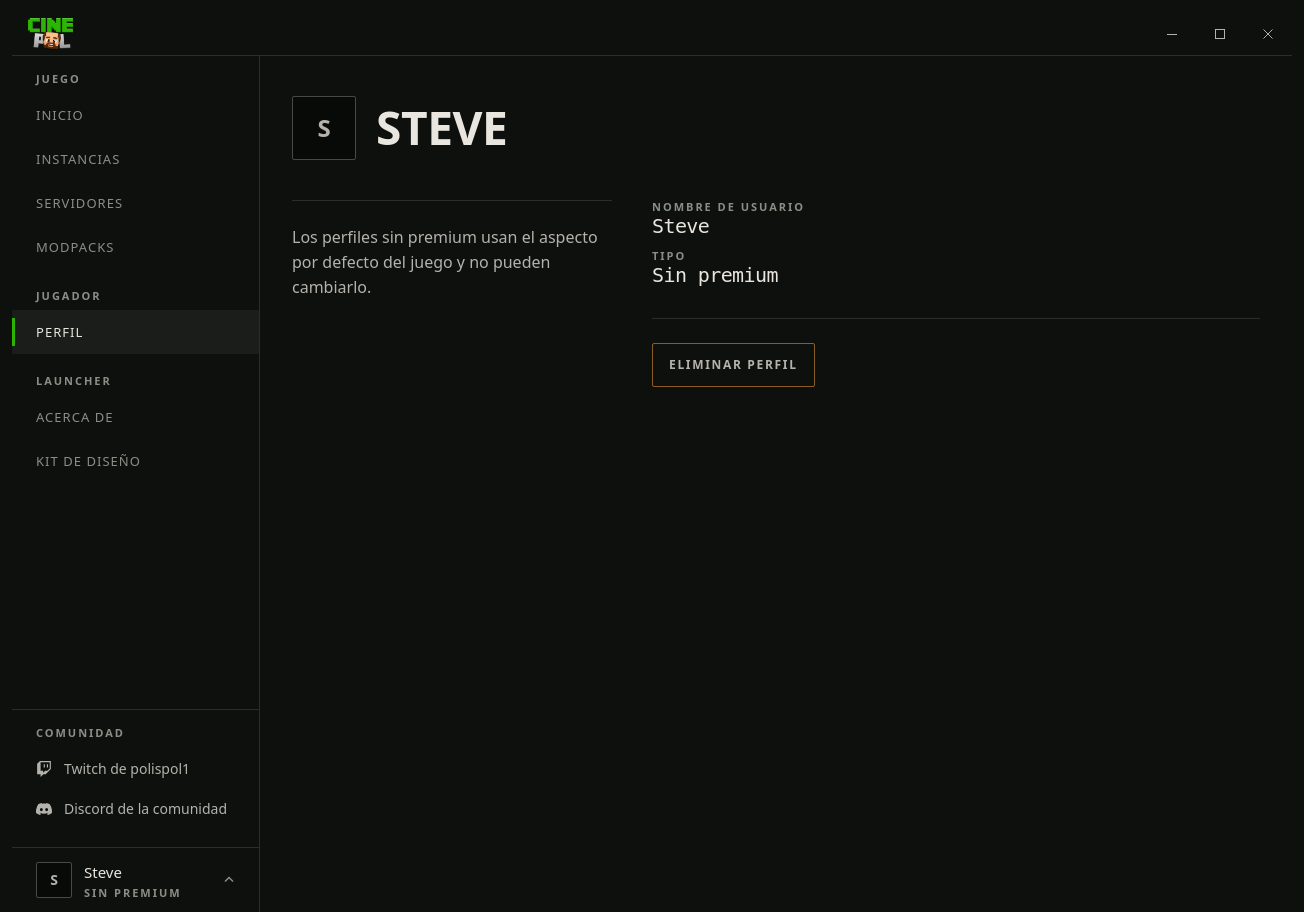
profile switcher › shows the active profile and switches between online and offline groups
This screenshot has width=1304, height=912.
What coordinates should you click on to do the following:
click the button with aria-label "Cambiar de perfil"
I would click on:
 (136, 880)
Its box is [12,848,259,911].
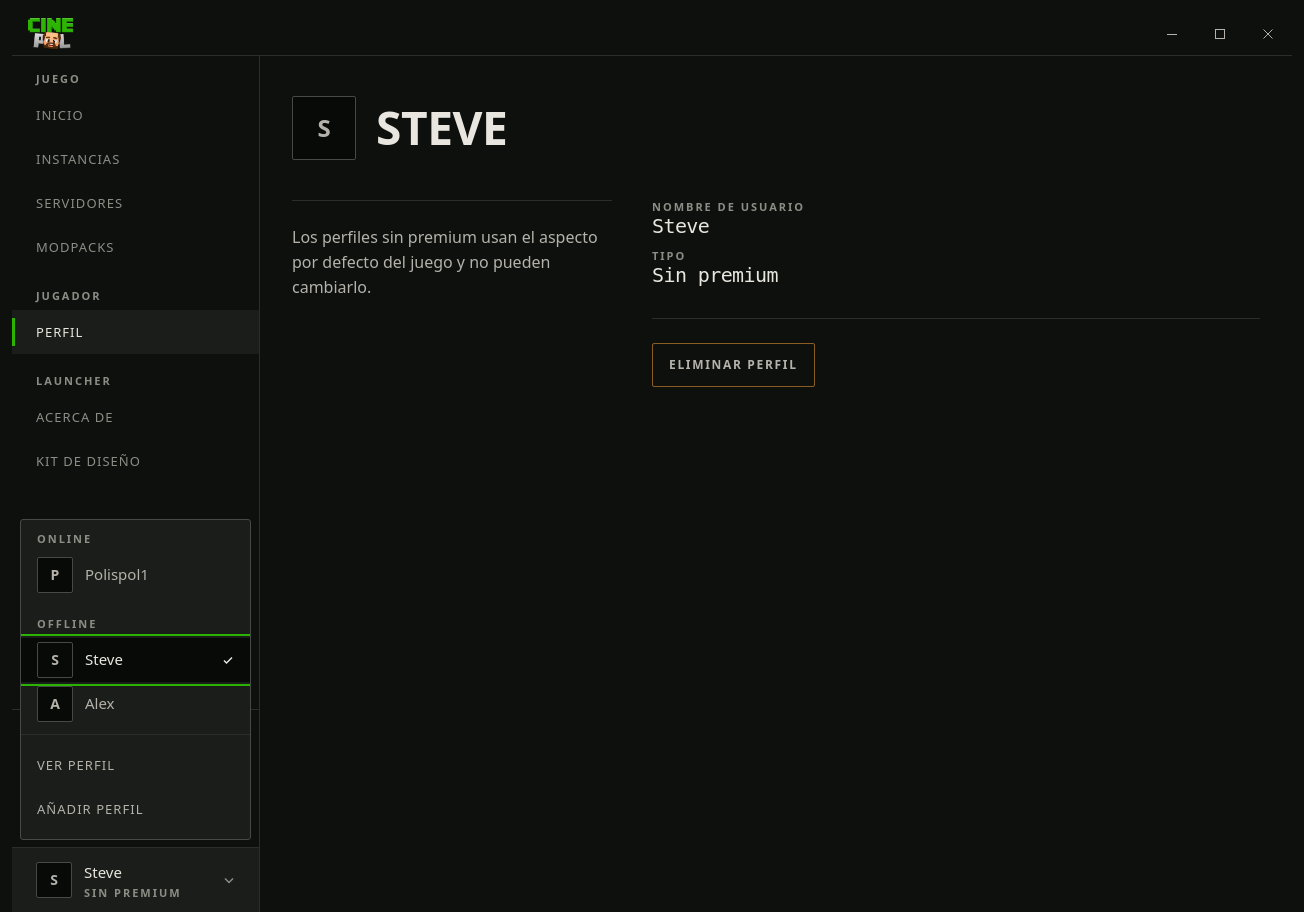
Now the button with aria-label "Cambiar de perfil" is expanded, box [12,848,259,911]
Now the menu item "P Polispol1" is shown, box [21,553,250,597]
What coordinates should you click on to do the following:
click the menu item "A Alex"
I would click on:
 (136, 704)
Its box is [21,682,250,726].
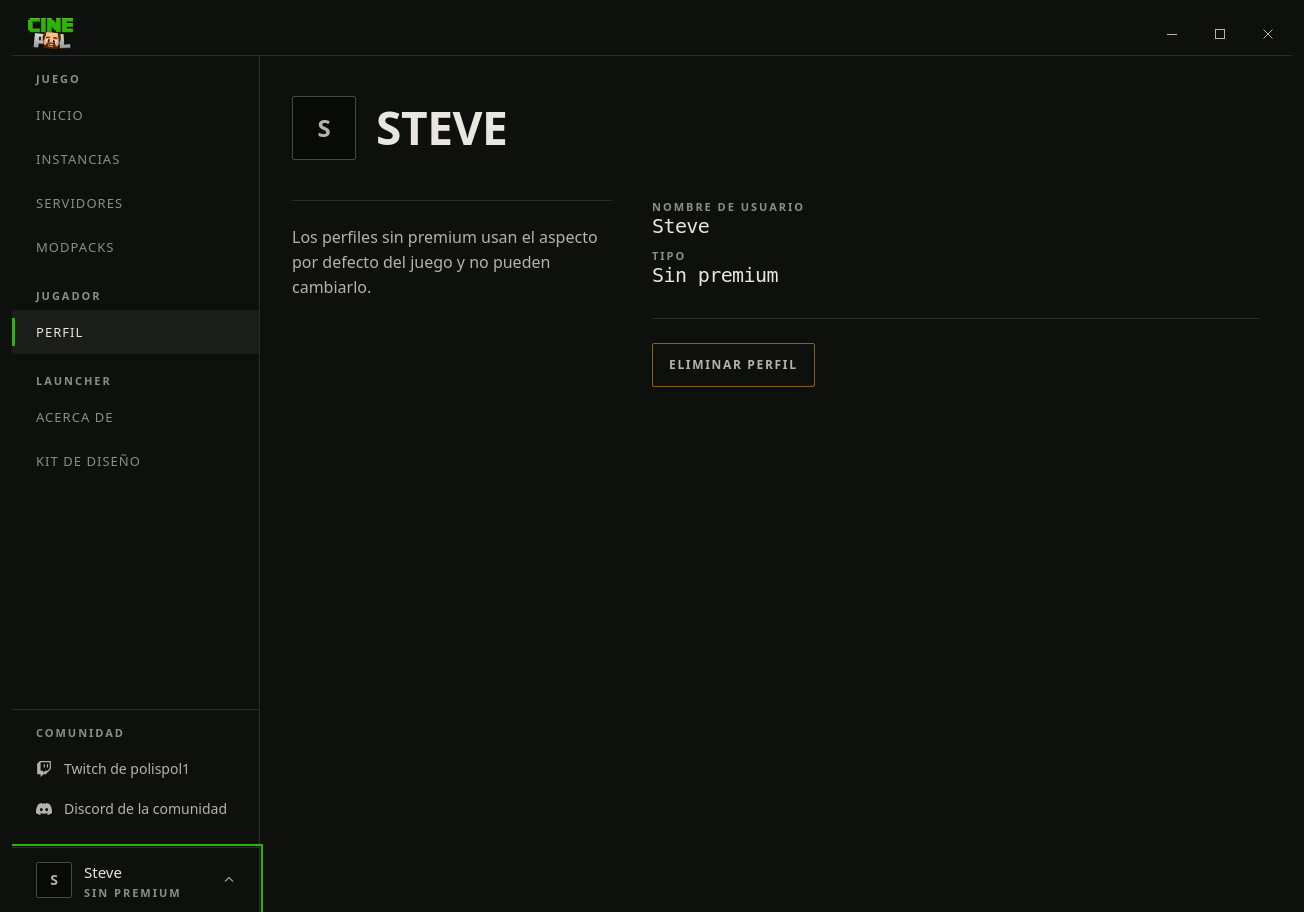
Now the menu is gone
